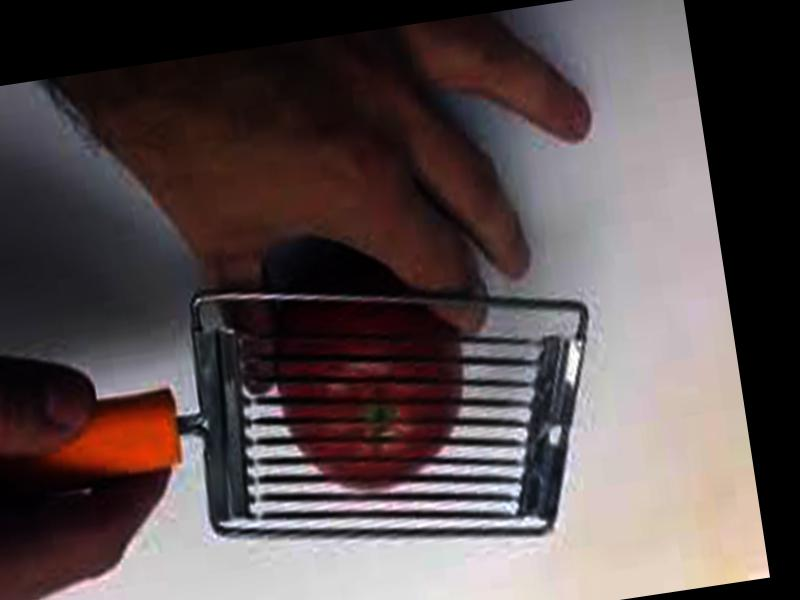Tomato: (257, 247, 473, 500)
